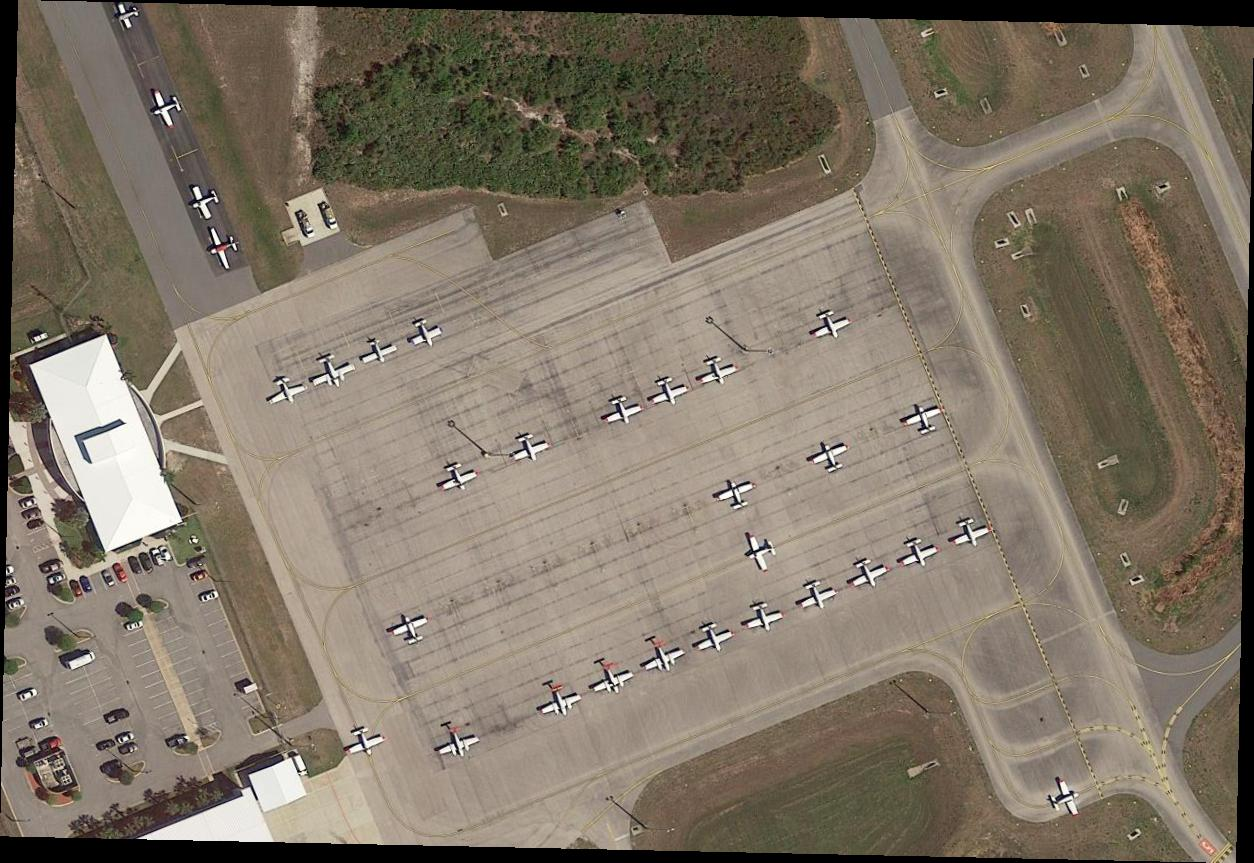plane: (307, 348, 359, 395), (637, 633, 690, 679), (201, 222, 244, 274), (947, 511, 995, 556), (589, 658, 638, 702), (434, 722, 483, 765), (536, 681, 586, 723), (388, 608, 435, 651), (895, 531, 941, 574), (808, 303, 854, 346), (263, 370, 310, 412), (341, 721, 389, 762), (146, 88, 188, 134), (691, 617, 738, 658), (847, 553, 893, 594), (901, 399, 947, 440), (695, 351, 741, 392), (741, 529, 780, 577), (808, 438, 854, 478), (715, 475, 761, 515), (1045, 777, 1085, 823), (646, 371, 692, 411), (742, 598, 787, 638), (507, 428, 552, 468), (185, 178, 225, 223), (796, 576, 841, 615), (601, 391, 644, 431), (436, 459, 480, 498), (356, 332, 399, 370), (405, 314, 445, 353), (114, 1, 145, 32)
